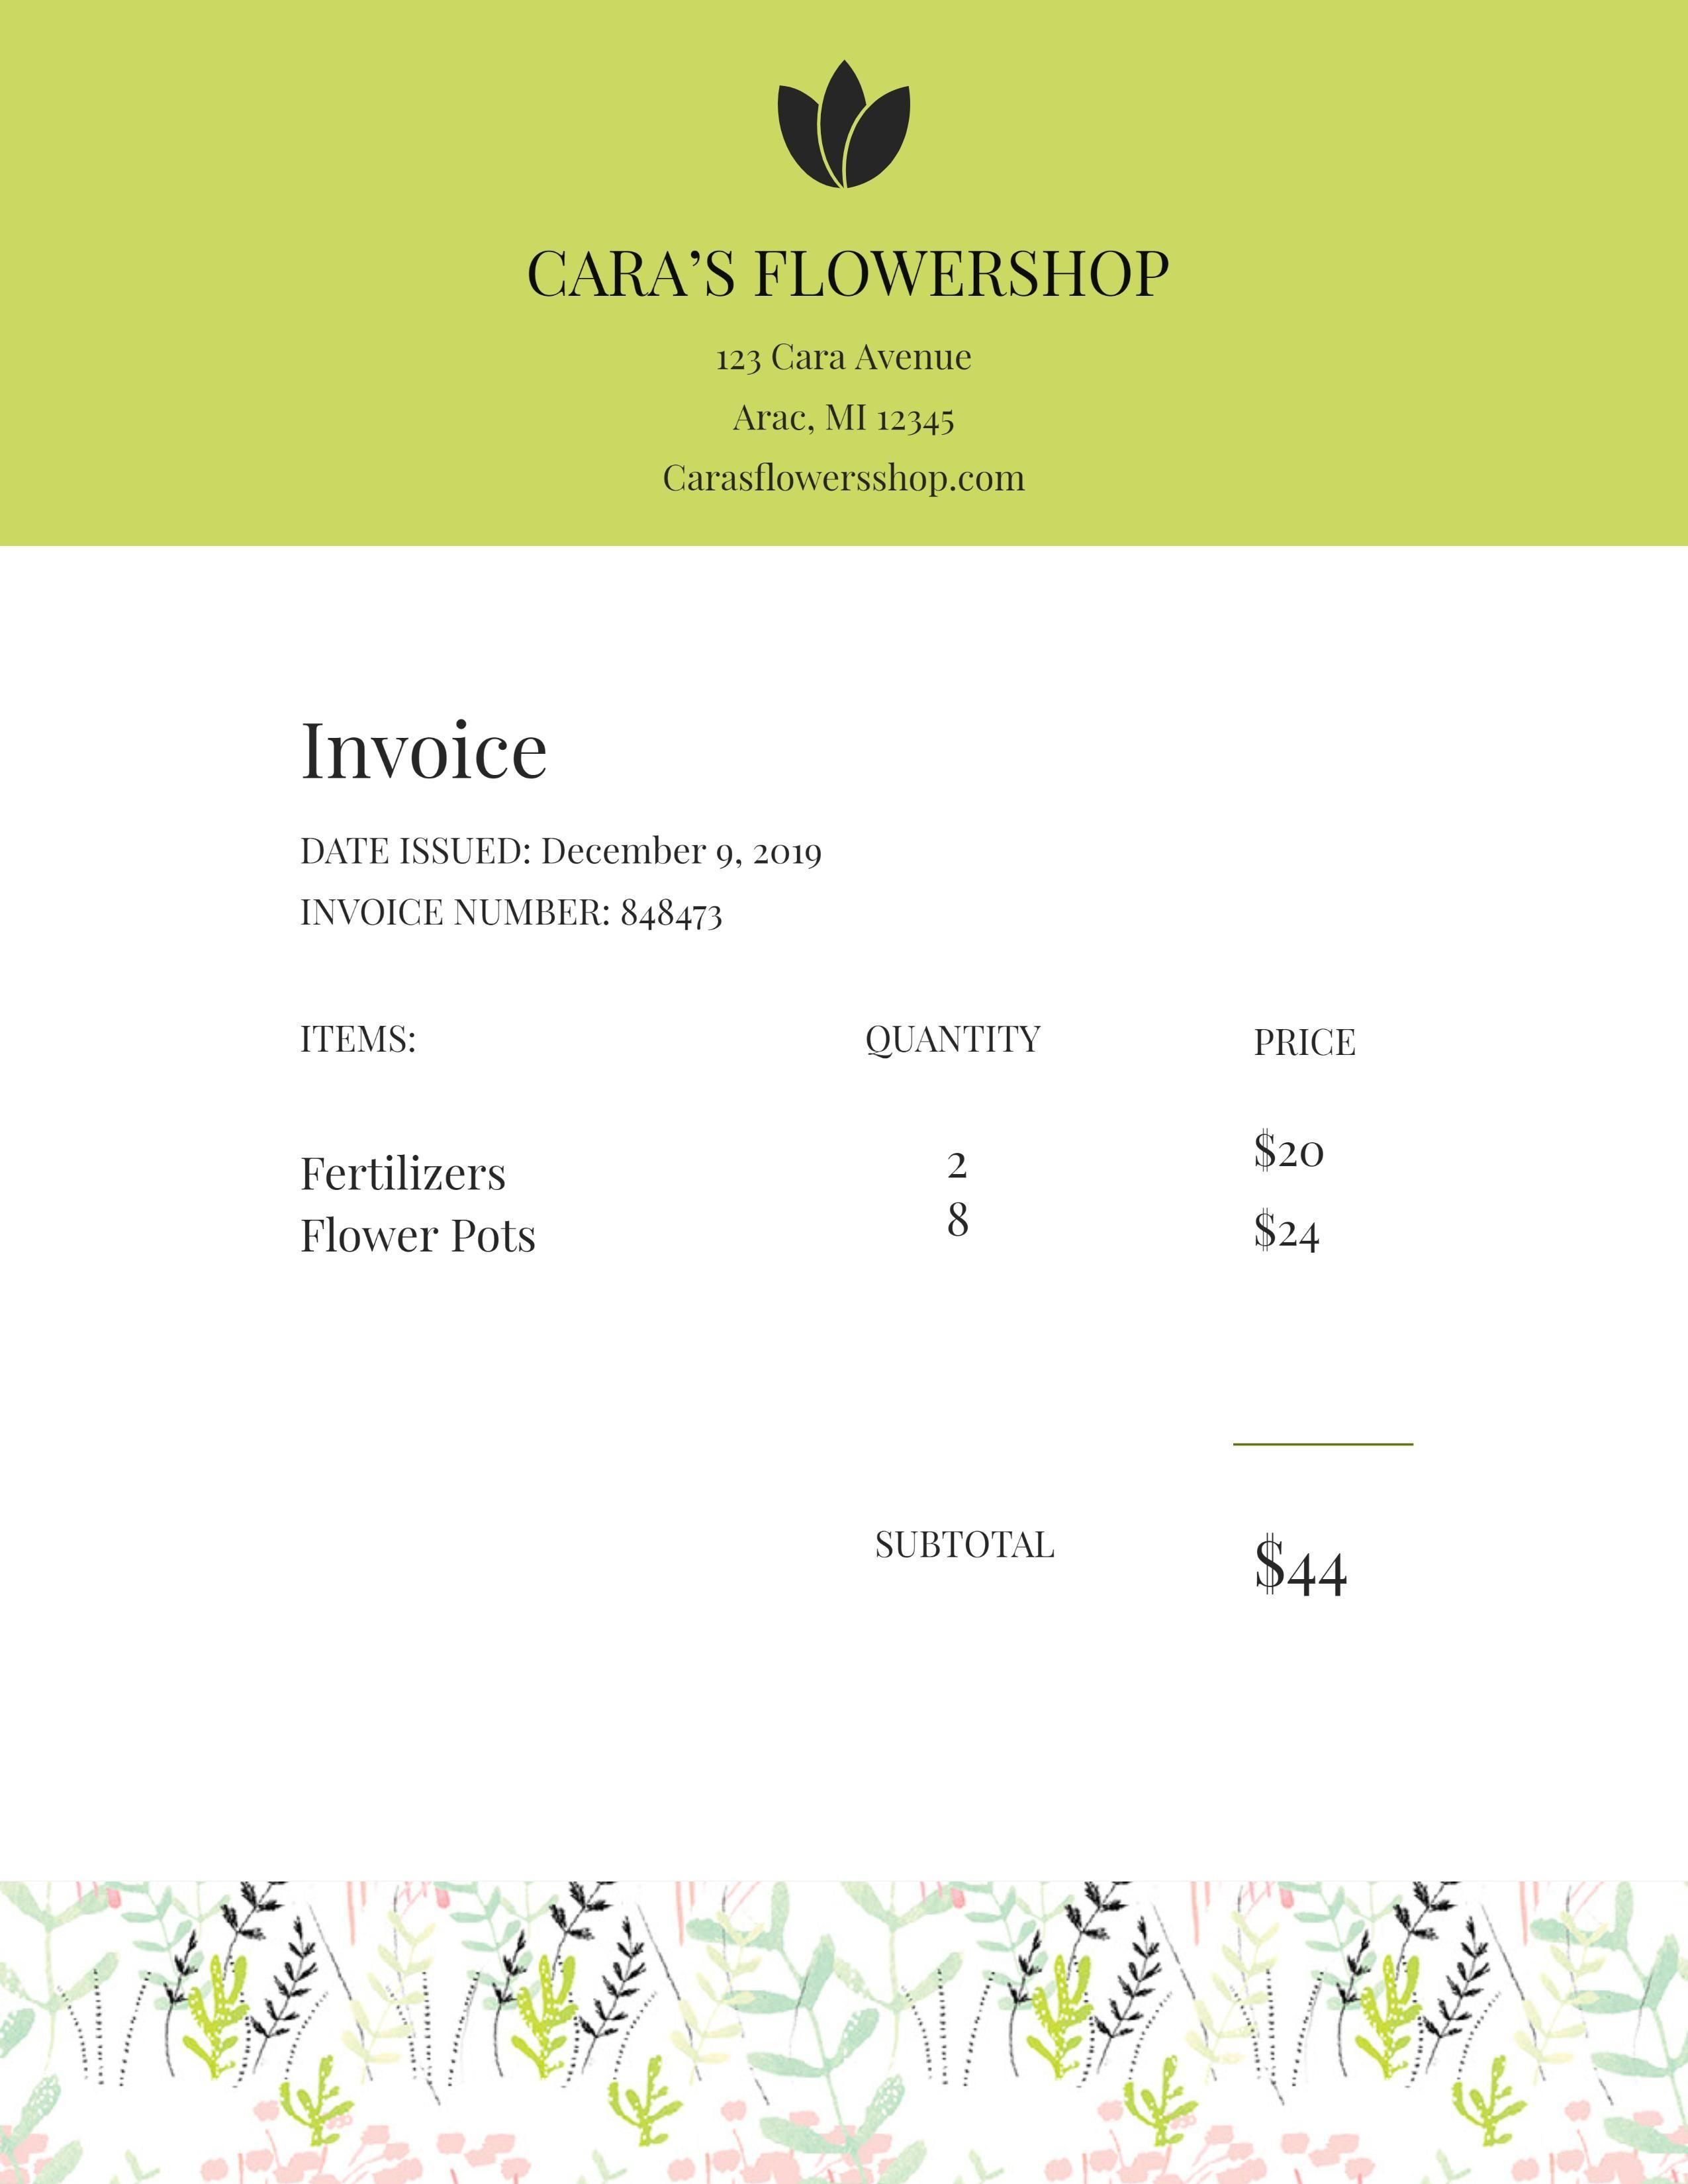ROI: (279, 1009, 1420, 1277), (504, 232, 1259, 518), (292, 828, 857, 953), (858, 1513, 1431, 1626)
